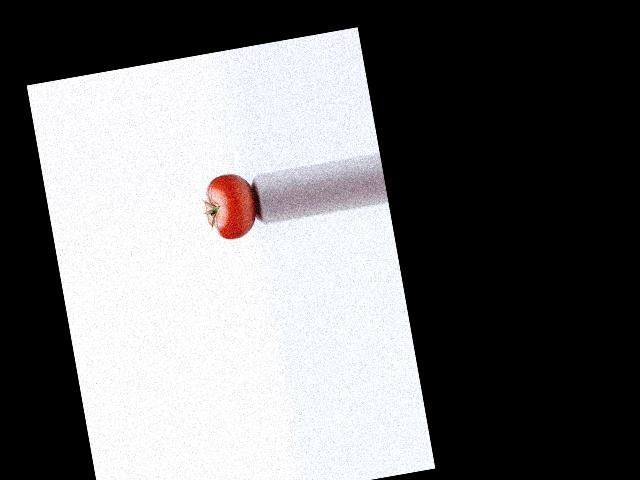tomato: (200, 170, 260, 243)
